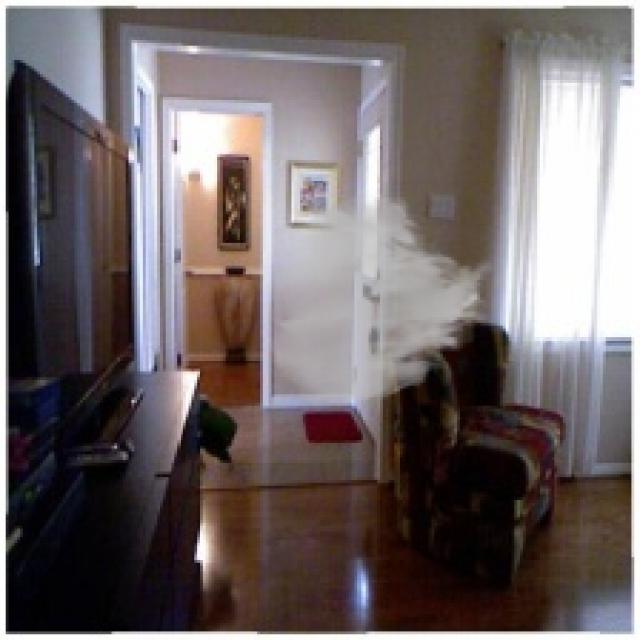smoke: (266, 192, 497, 408)
